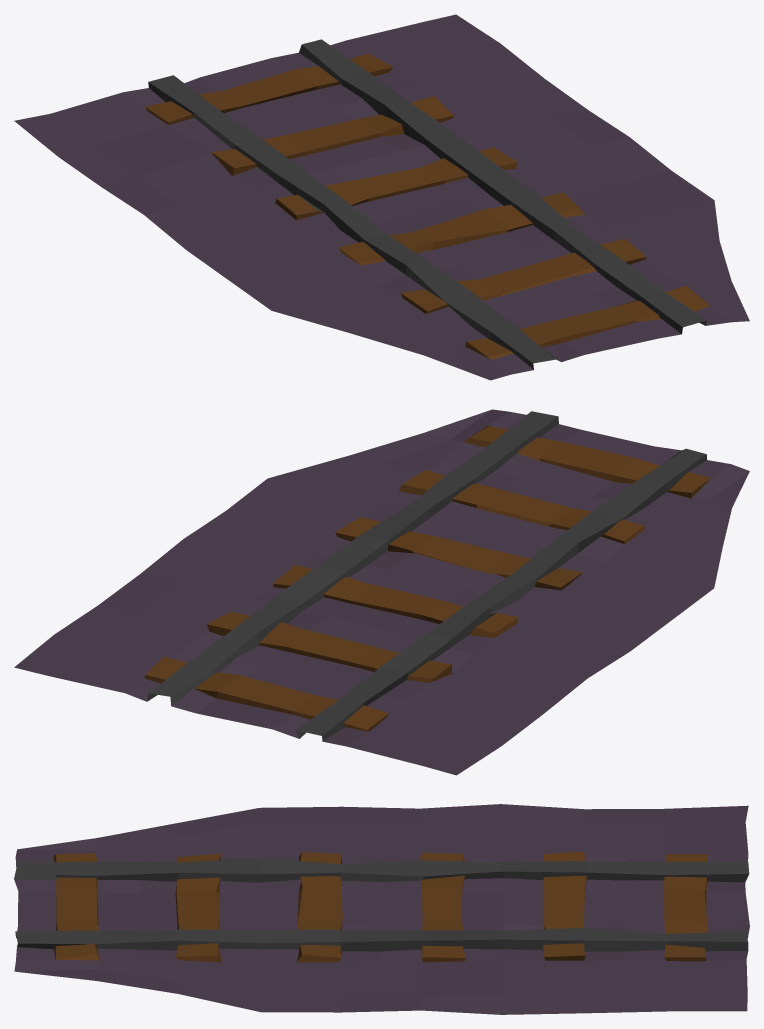
Rendered from trainTrackExit.fbx.
3 views of the same model, one above another, from view 1: azimuth 30°, elevation 25°; view 2: azimuth 150°, elevation 25°; view 3: azimuth 270°, elevation 25° (orthographic). The views are drawn at different scales.
Visible parts, largest first — view 1: Tunnel; view 2: Tunnel; view 3: Tunnel.
Boxes of the visible parts, x1,y1,x2,y2 form: Tunnel: [14, 14, 749, 380]; Tunnel: [14, 409, 749, 775]; Tunnel: [14, 804, 749, 1014].
Bounding box in the file's own units: 1205 × 38.64 × 1812.
